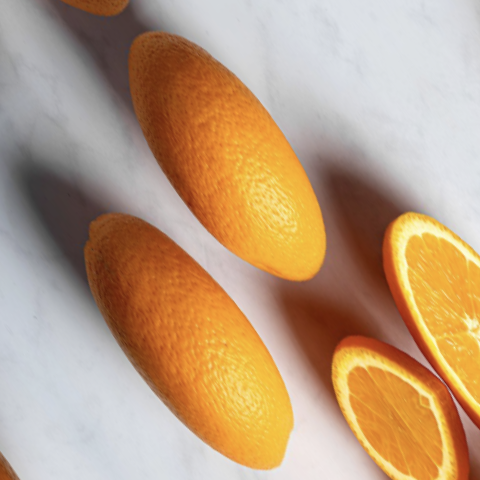orange: (84, 0, 376, 324), (41, 168, 341, 480)
